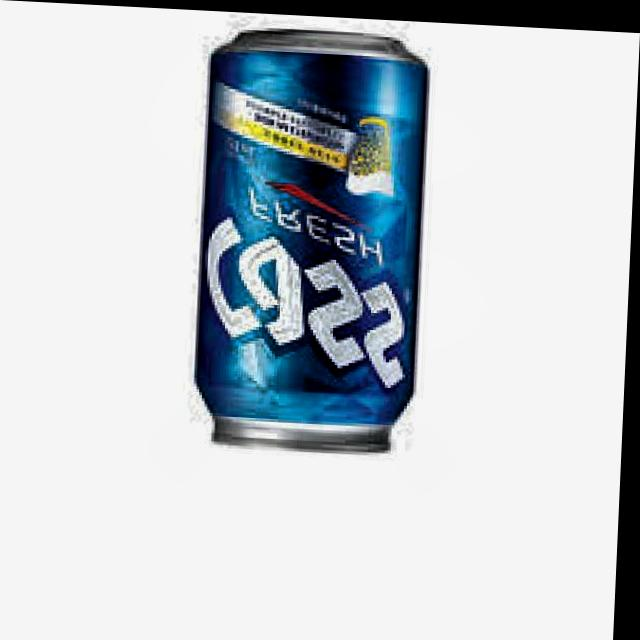can: (185, 14, 445, 468)
